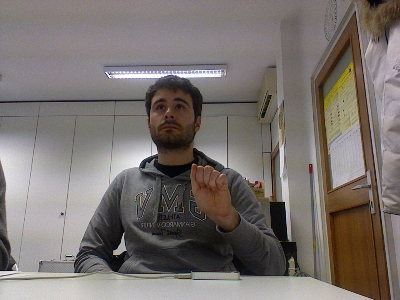石头: (188, 162, 232, 218)
